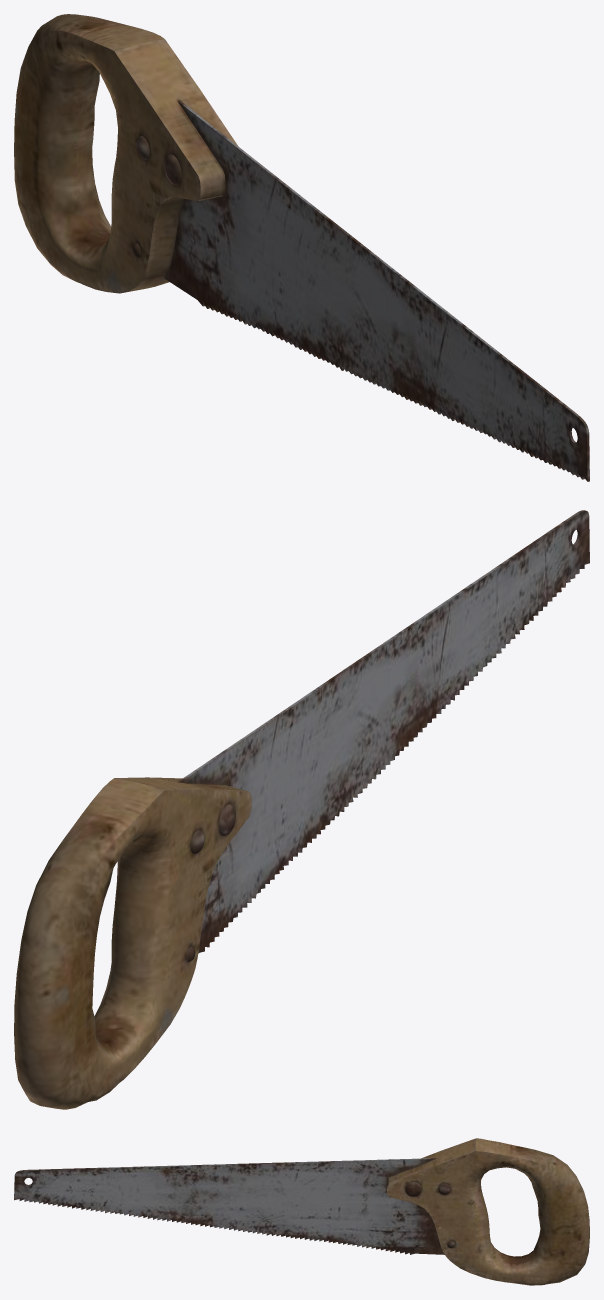
File: handsaw_wood.gltf
The picture shows the model from 3 angles, top to bottom: view 1: azimuth 30°, elevation 25°; view 2: azimuth 150°, elevation 25°; view 3: azimuth 270°, elevation 25°; orthographic projection. The views are drawn at different scales.
Visible parts, largest first — view 1: handsaw_wood; view 2: handsaw_wood; view 3: handsaw_wood.
Part boxes in pixels (x1=…): handsaw_wood: x1=14, y1=14, x2=589, y2=481; handsaw_wood: x1=14, y1=510, x2=589, y2=1109; handsaw_wood: x1=14, y1=1138, x2=589, y2=1285.
Bounding box in the file's own units: 0.0408 × 0.1665 × 0.633.
1 material, 1 textured.
